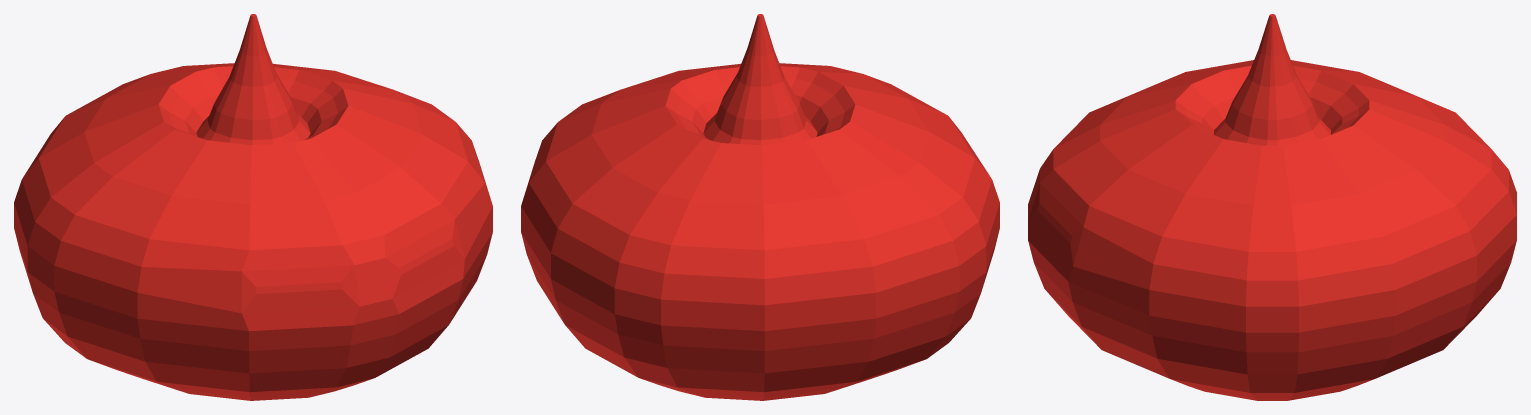
The model's file is slimy_boi.fbx.
3 renders of one model, left to right at view 1: azimuth 30°, elevation 25°; view 2: azimuth 150°, elevation 25°; view 3: azimuth 270°, elevation 25°, orthographic.
Visible parts, largest first — view 1: Cube; view 2: Cube; view 3: Cube.
Part boxes in pixels (x1=…): Cube: x1=14, y1=14, x2=492, y2=400; Cube: x1=521, y1=14, x2=999, y2=400; Cube: x1=1028, y1=14, x2=1516, y2=400.
Bounding box in the file's own units: 1390 × 1090 × 1390.
